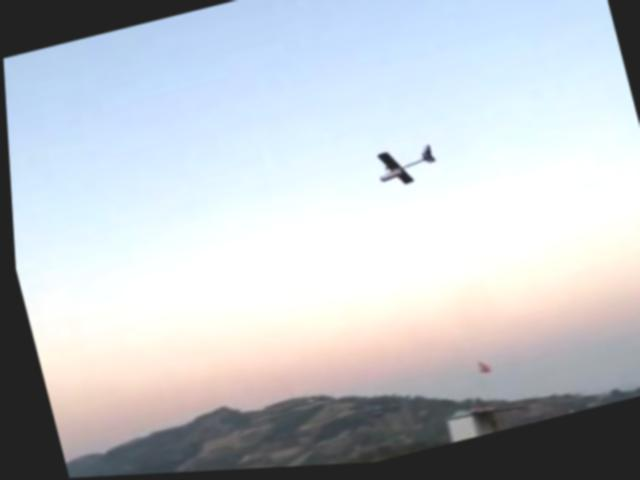uav: (370, 134, 443, 197)
